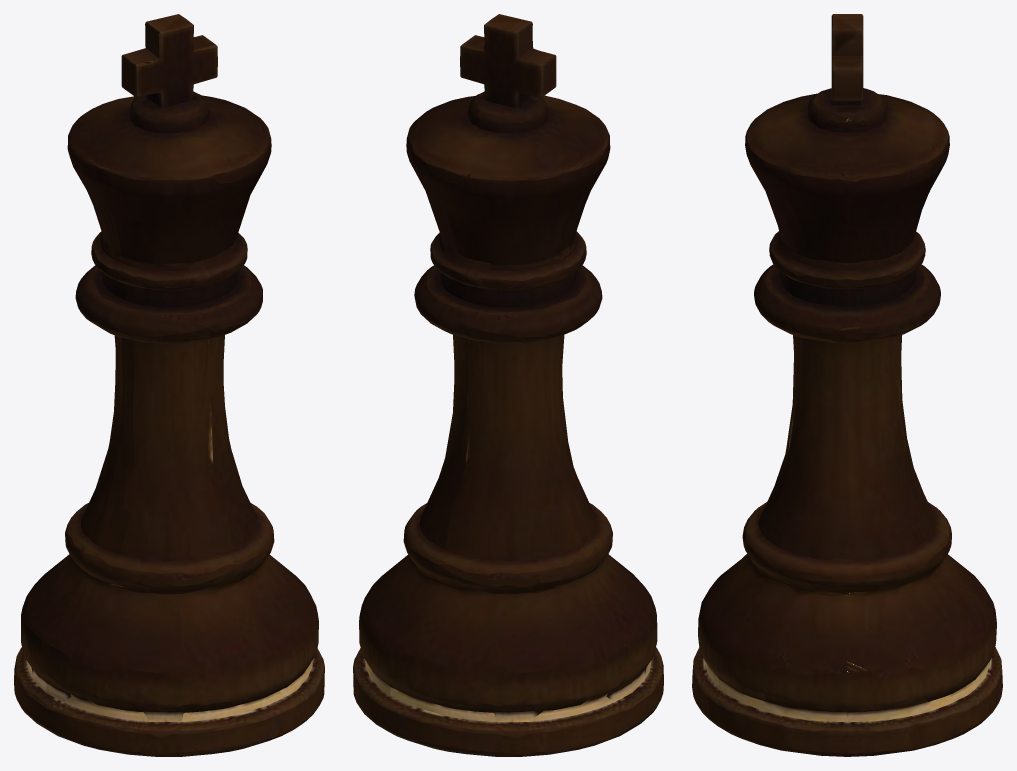
Rendered from black-king.glb.
3 renders of one model, left to right at view 1: azimuth 30°, elevation 25°; view 2: azimuth 150°, elevation 25°; view 3: azimuth 270°, elevation 25°, orthographic.
Visible parts, largest first — view 1: world; view 2: world; view 3: world.
Boxes of the visible parts, bbox=[...] form: world: bbox=[14, 14, 324, 756]; world: bbox=[353, 14, 663, 756]; world: bbox=[692, 14, 1002, 756].
Bounding box in the file's own units: 0.4203 × 1 × 0.4201.
1 material, 1 textured.
